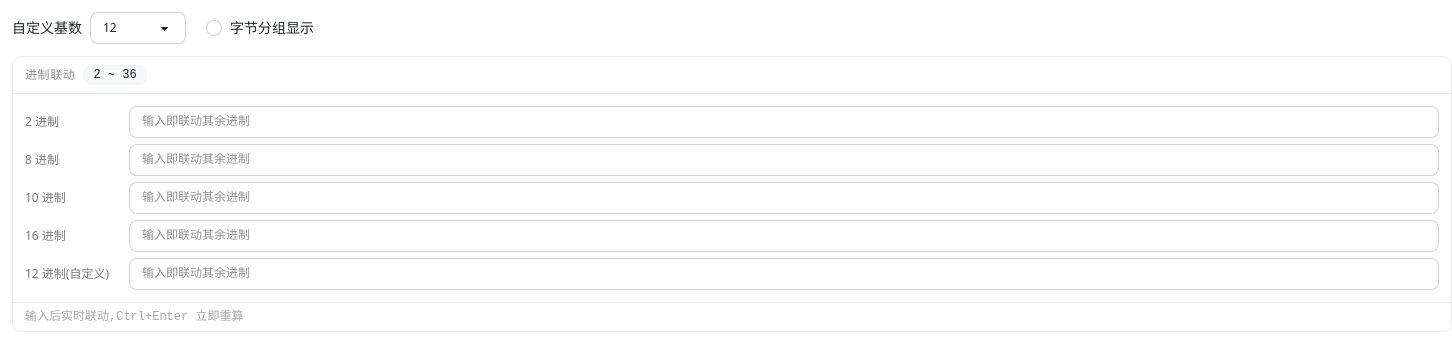
Test: Radix 多进制同显(FE6) › 字节分组开关只影响展示位(hex 每字节 2 位,其他进制不受影响)
This screenshot has width=1452, height=349.
In the field named "10 进制": (784, 198) [129,182,1439,214], type "3735928559"
Wait 150 ms
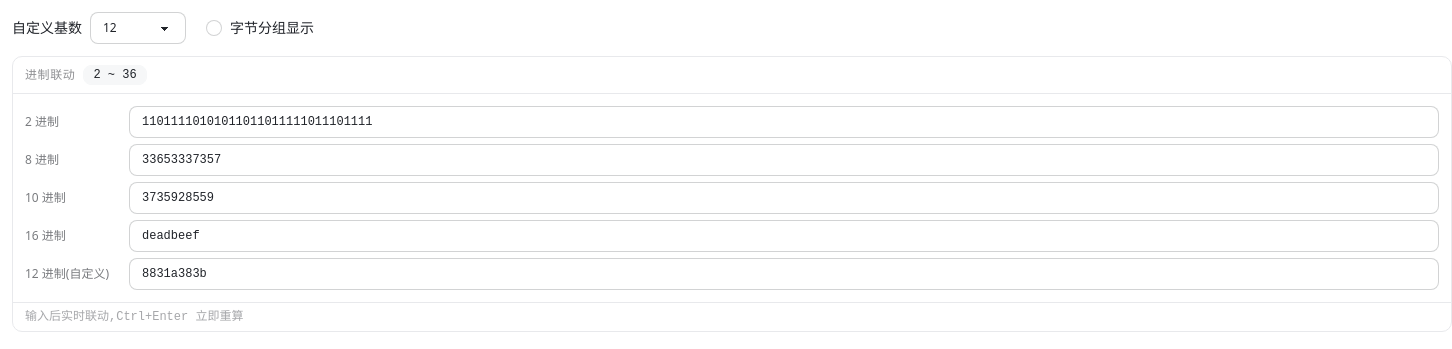
Click the checkbox labelled "字节分组显示": (214, 28) [206,20,222,36]
Wait 150 ms
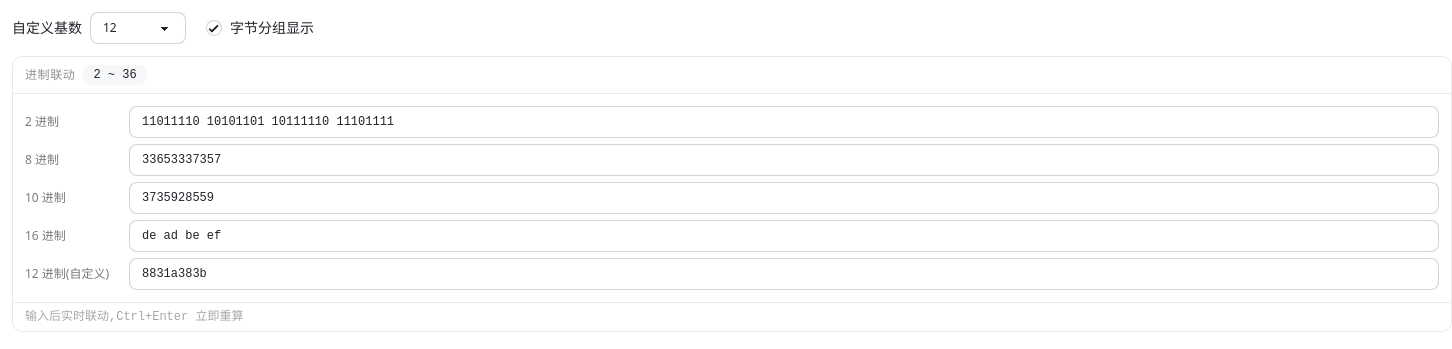
Expected: the field named "16 进制" holds "de ad be ef", [129,220,1439,252]
